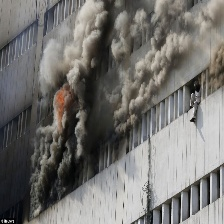fire: (55, 87, 65, 123)
smoke: (23, 1, 223, 213)
